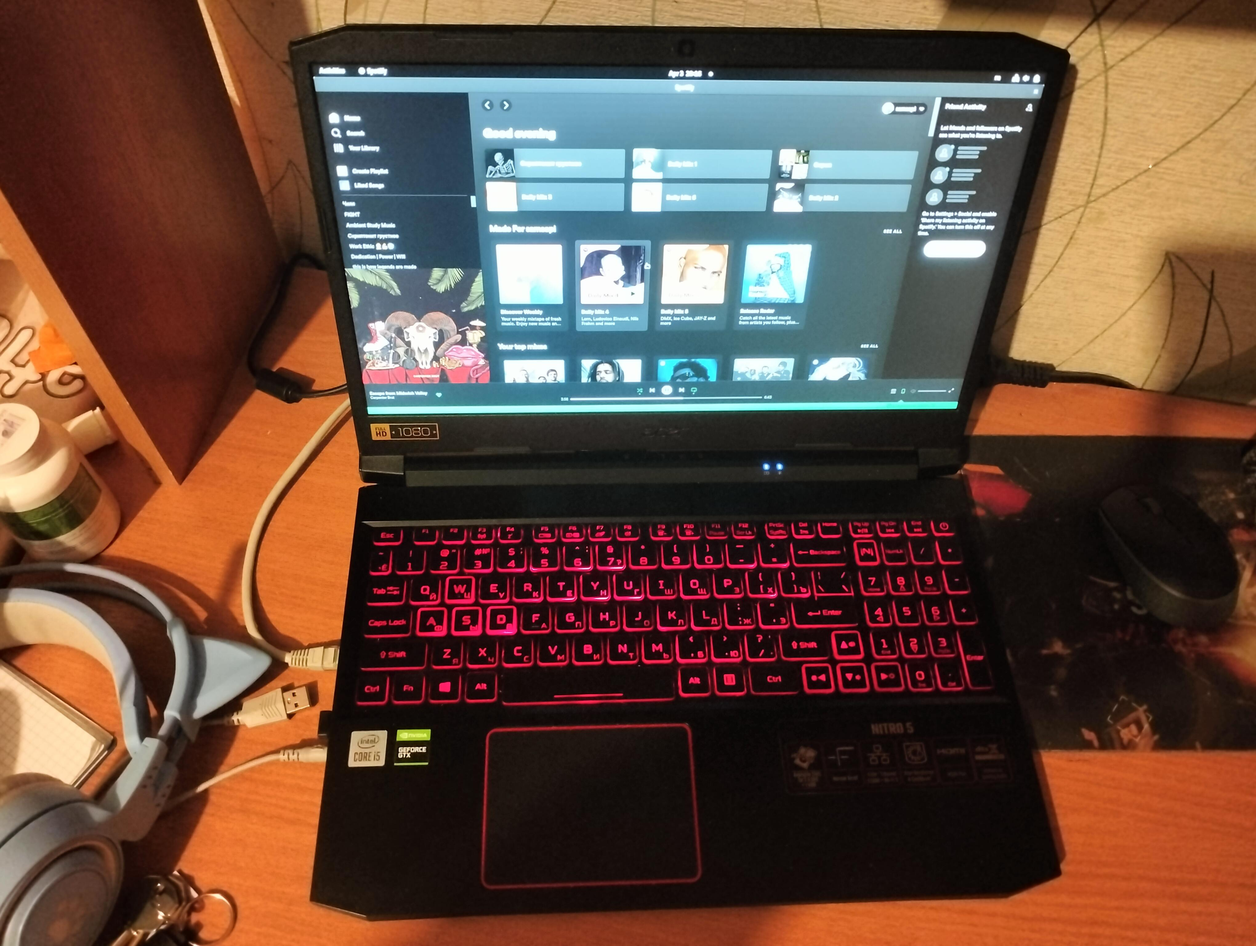monitor: (286, 23, 1074, 482)
